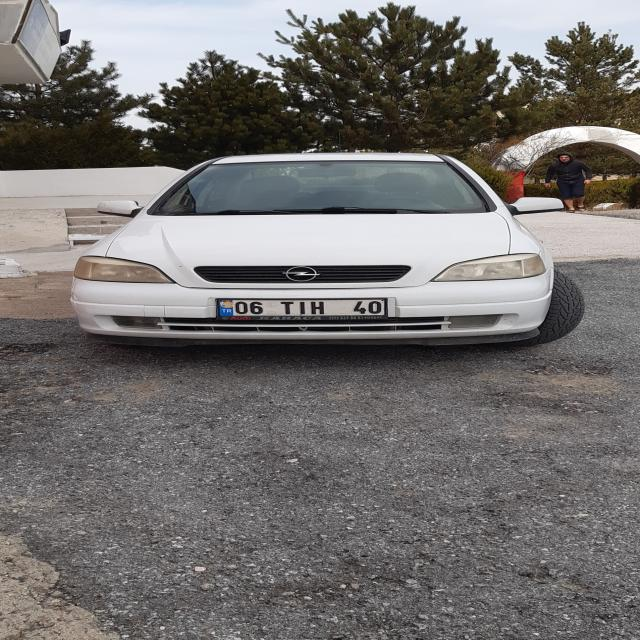license_plate: (216, 298, 388, 316)
